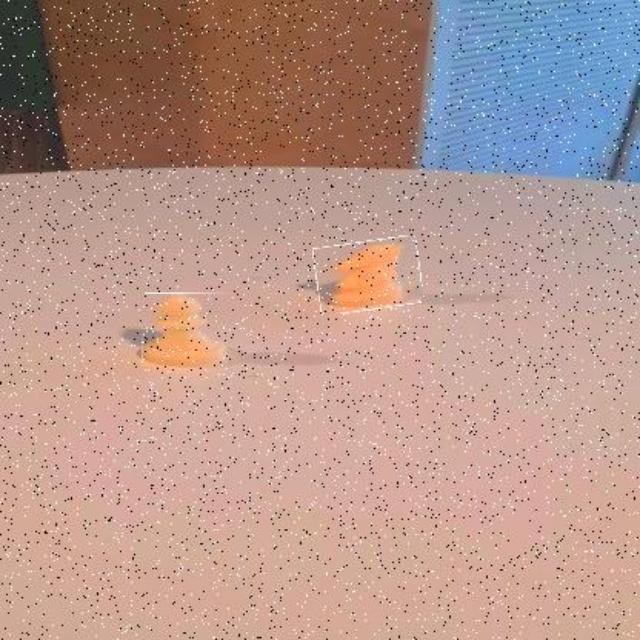white-bishop: (141, 293, 230, 365)
white-knight: (315, 238, 421, 311)
